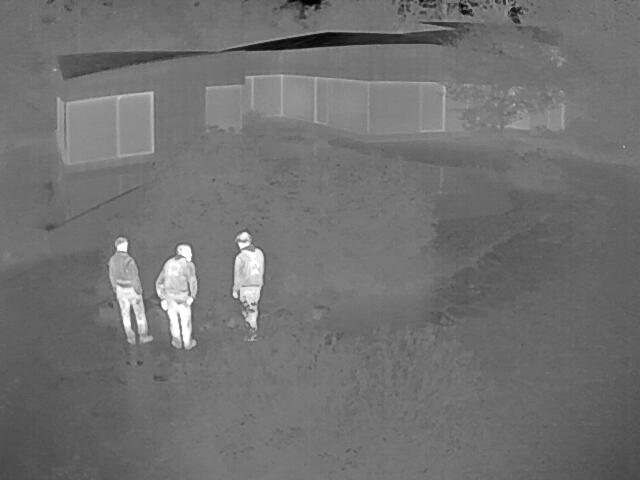person: (107, 236, 150, 343), (155, 243, 198, 349), (232, 229, 264, 341)
